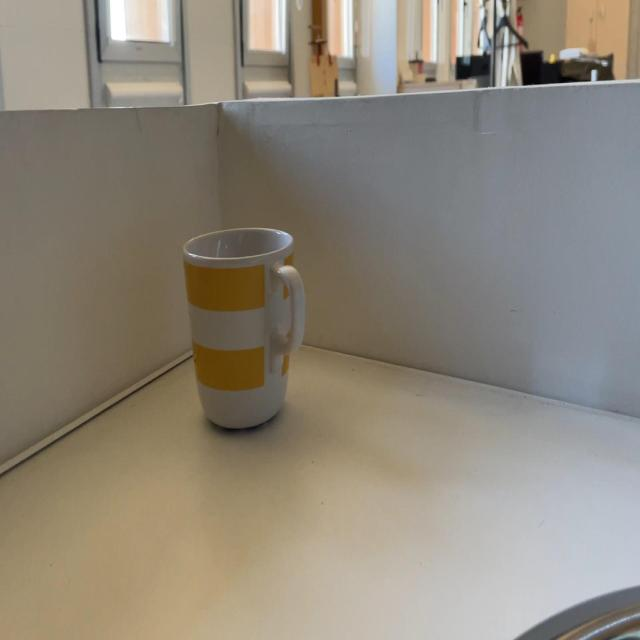cup: (184, 224, 307, 439)
